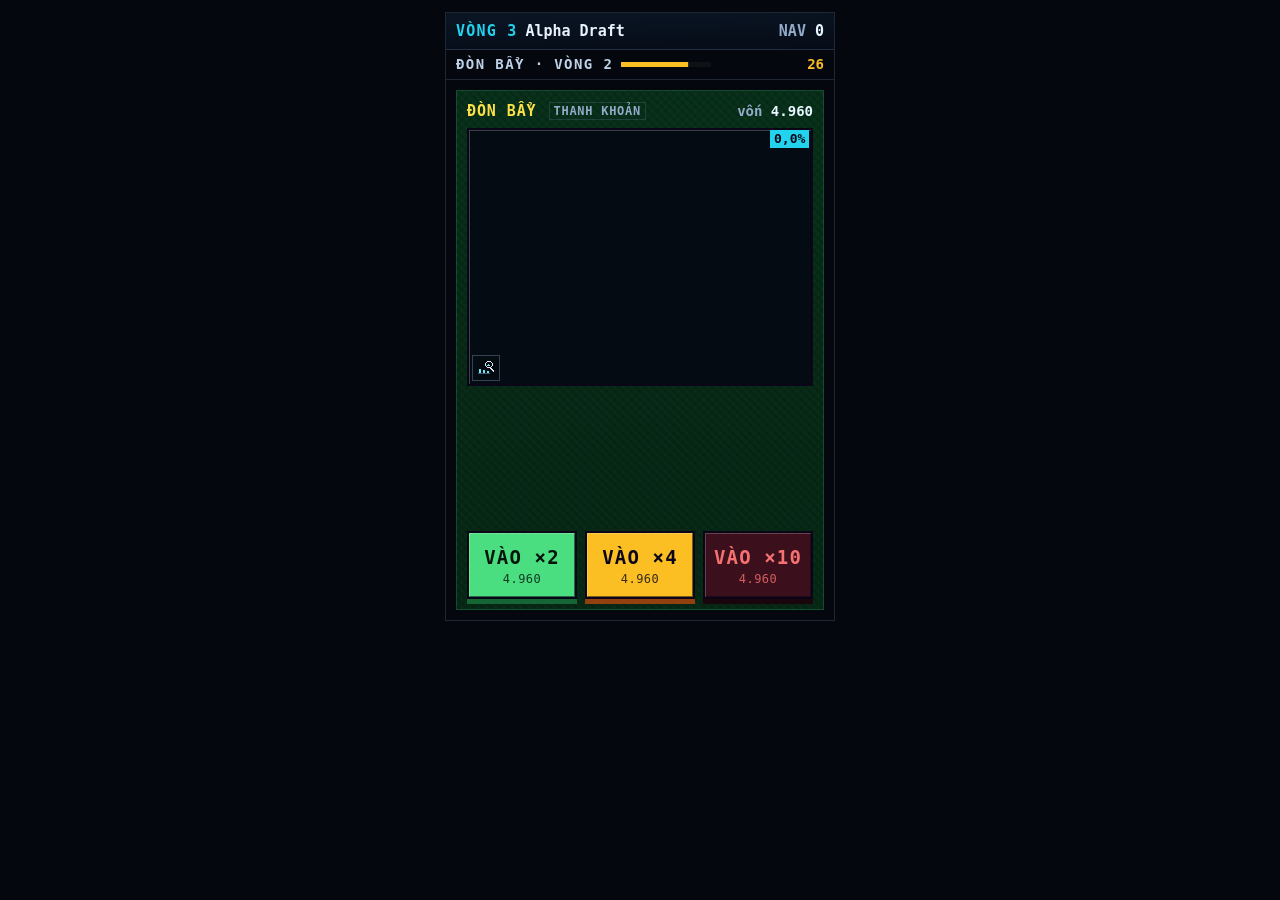
Test: §V — D492: lõi Đòn Bẩy trong màn › ⭐ chưa vào ⇒ ba nút VÀO ×2 · ×4 · ×10 (tiền server); VÀO ×10 ⇒ TĂNG (×10 tối đa) · NẠP THÊM · CHỐT, tạm tính "×10 · ký quỹ"
Expected: the button "VÀO ×2 4.960" is shown, [467,531,577,599]
What coordinates should you click on to do the following:
click the button "VÀO ×10 4.960"
I would click on:
 (758, 565)
Its box is [703,531,813,599].
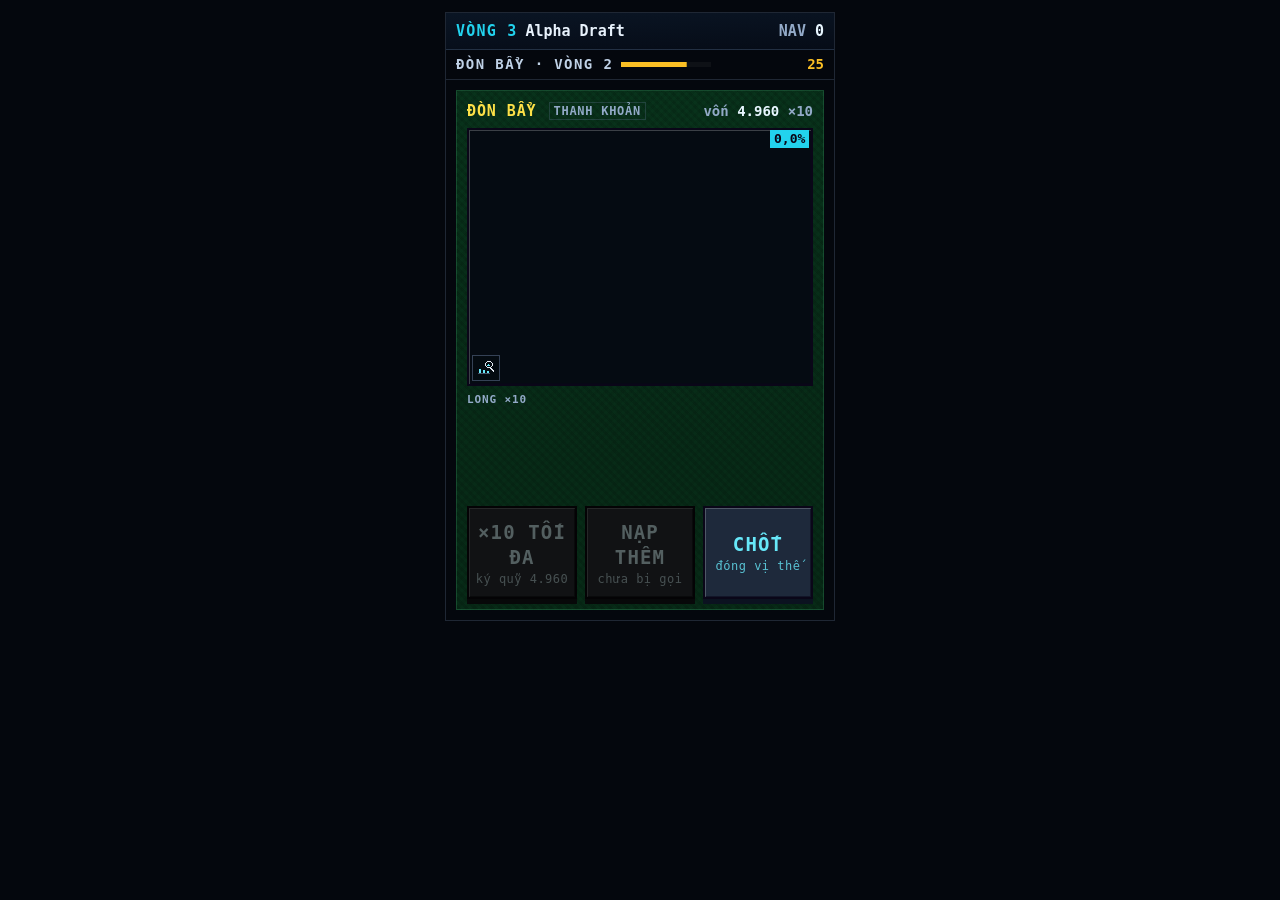
Expected: the button "×10 TỐI ĐA ký quỹ 4.960" is shown, [467,506,577,599]
Expected: the button "NẠP THÊM chưa bị gọi" is disabled, [585,506,695,599]
Expected: the button "CHỐT đóng vị thế" is shown, [703,506,813,599]
